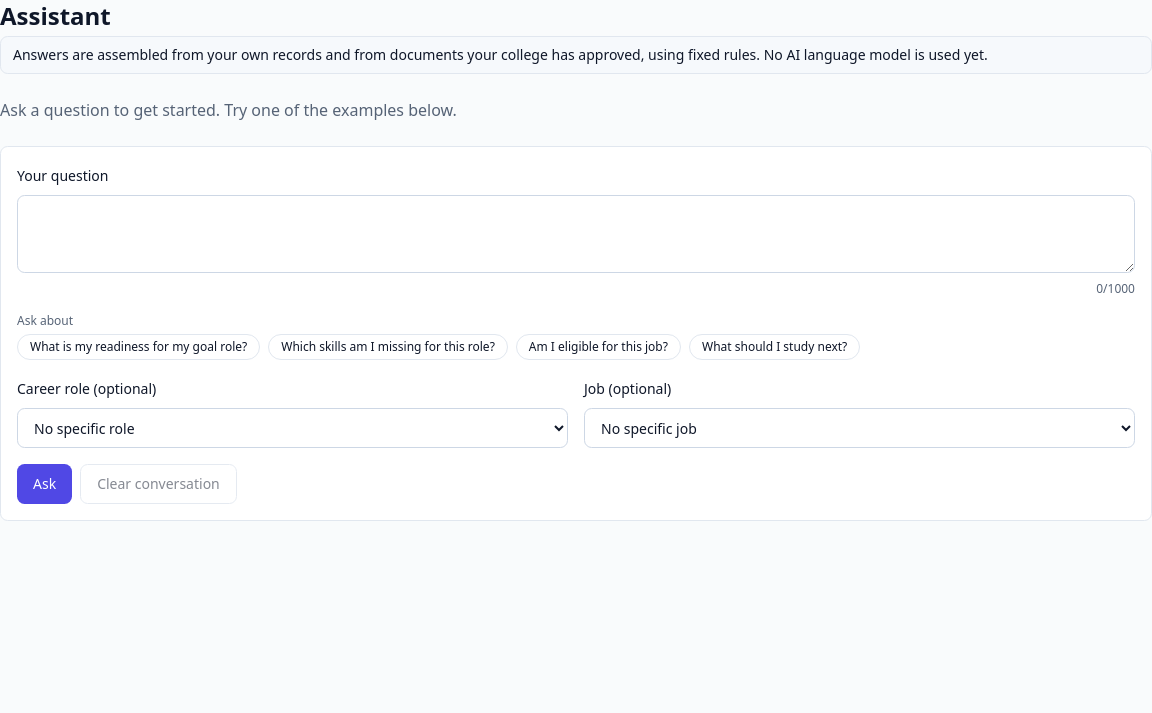
AssistantPage › shows insufficient evidence message from API
The width and height of the screenshot is (1152, 713).
Type "obscure" into the text box labelled "Your question" at (576, 234), box x1=17 y1=195 x2=1135 y2=273
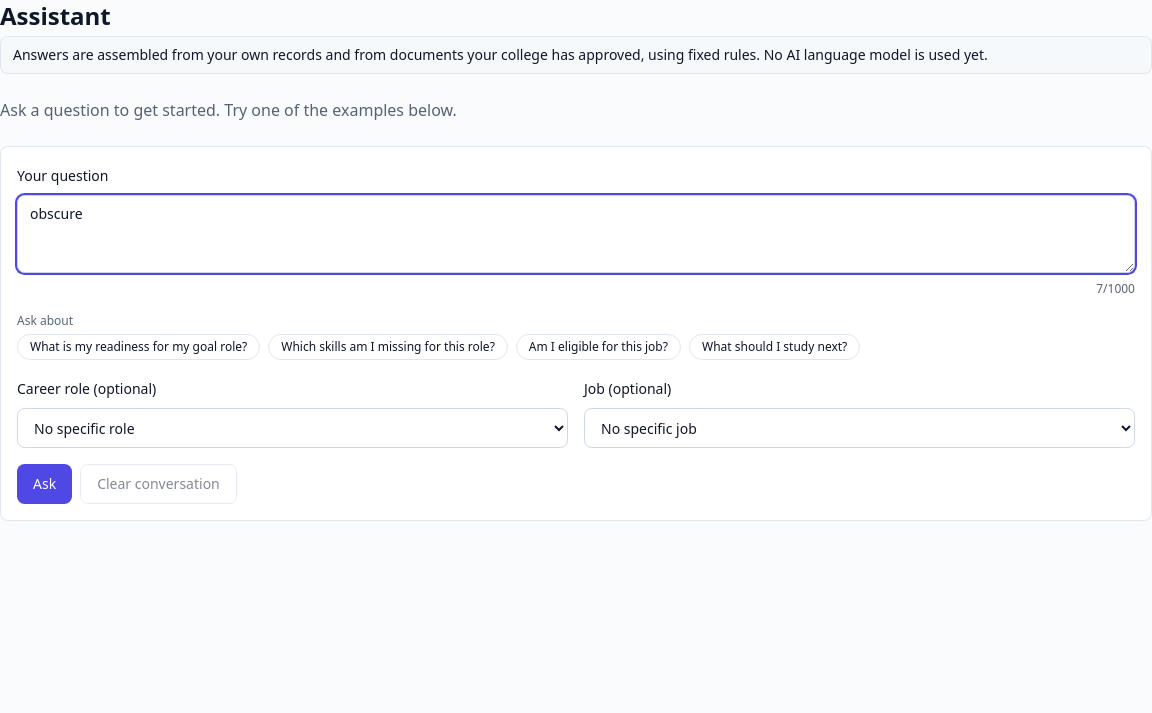
Click the button "Ask" at (45, 484), box x1=17 y1=464 x2=72 y2=504
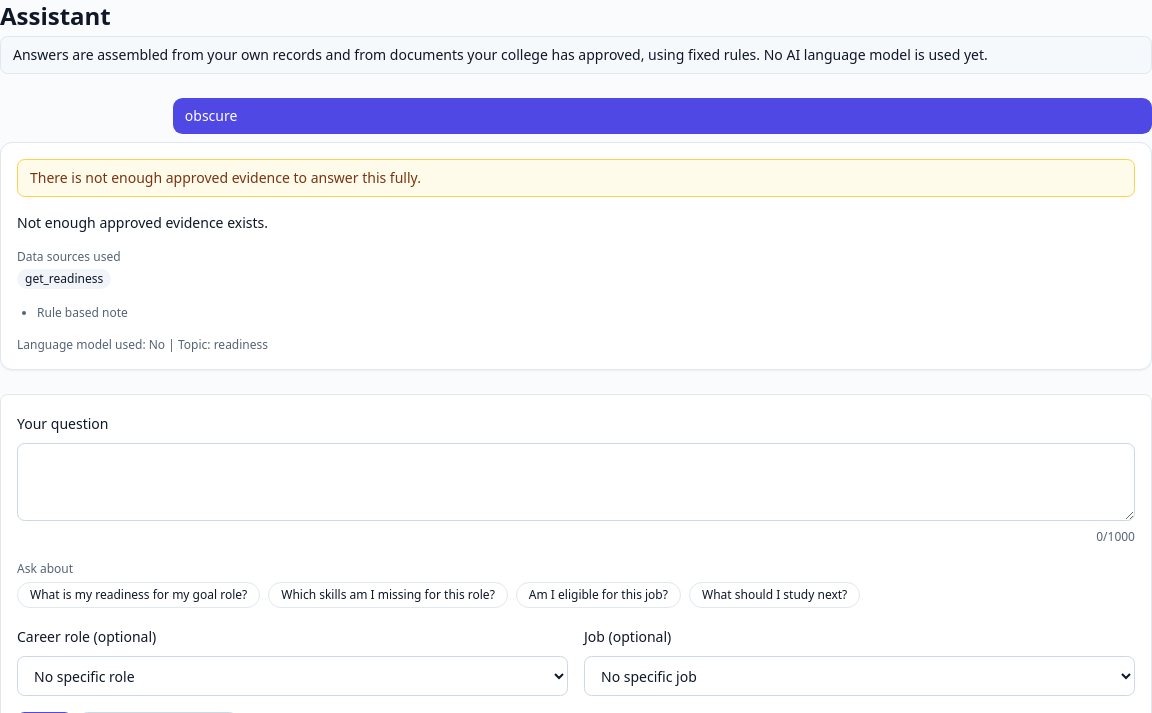
Expected: the text "Not enough approved evidence exists." is shown, x1=17 y1=213 x2=268 y2=232
